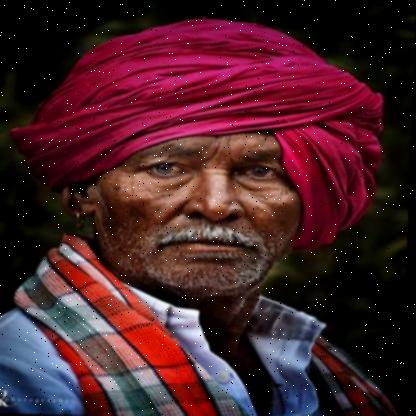person: (0, 3, 416, 416)
